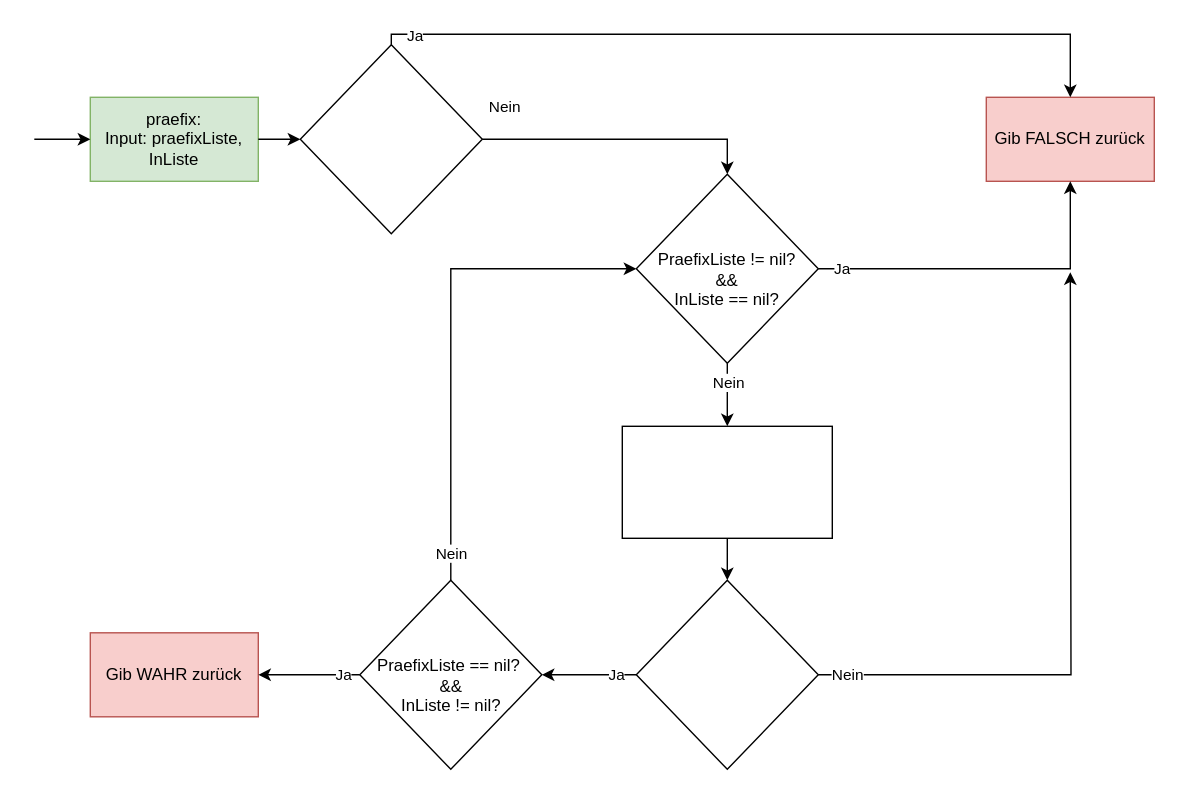
This 1179x794 diagram has some shape labels left out. Here are the shapes that lost their labels. From the top down, the centre of each, then its label:
(x=390, y=138): PraefixListe == nil? oder InListe == nil?
(x=726, y=481): Wähle das erste Element aus PraefixListe und InListe und lösche es daraus
(x=726, y=674): sind beide Elemente gleich
